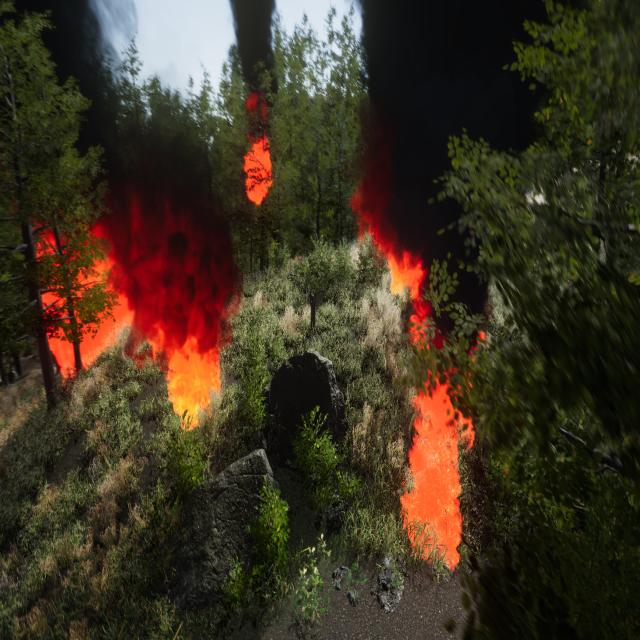Human: (307, 280, 322, 335)
